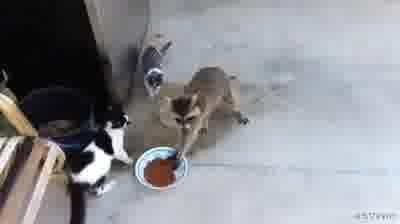raccoon: (166, 64, 253, 165)
